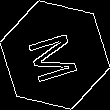M_E: (25, 25, 85, 85)
